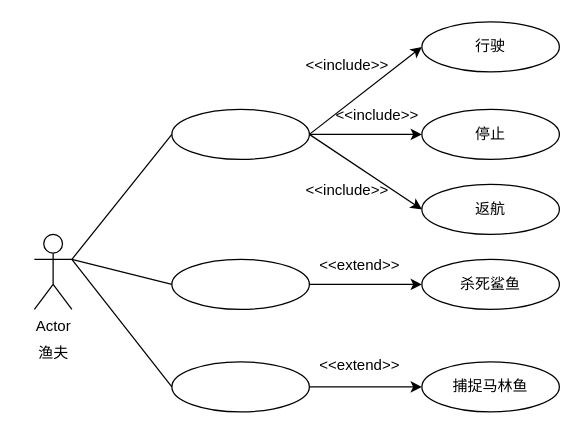
Image size: 581x434. Some labels were removed from this diagram. The shapes that lost their labels are listed below. From the top down, each one's box as (x1, y1, x2, y2) in pixels, then its label:
(171, 108, 309, 159): 操作船只
(171, 258, 309, 309): 攻击鲨鱼
(171, 361, 309, 412): 寻找马林鱼
